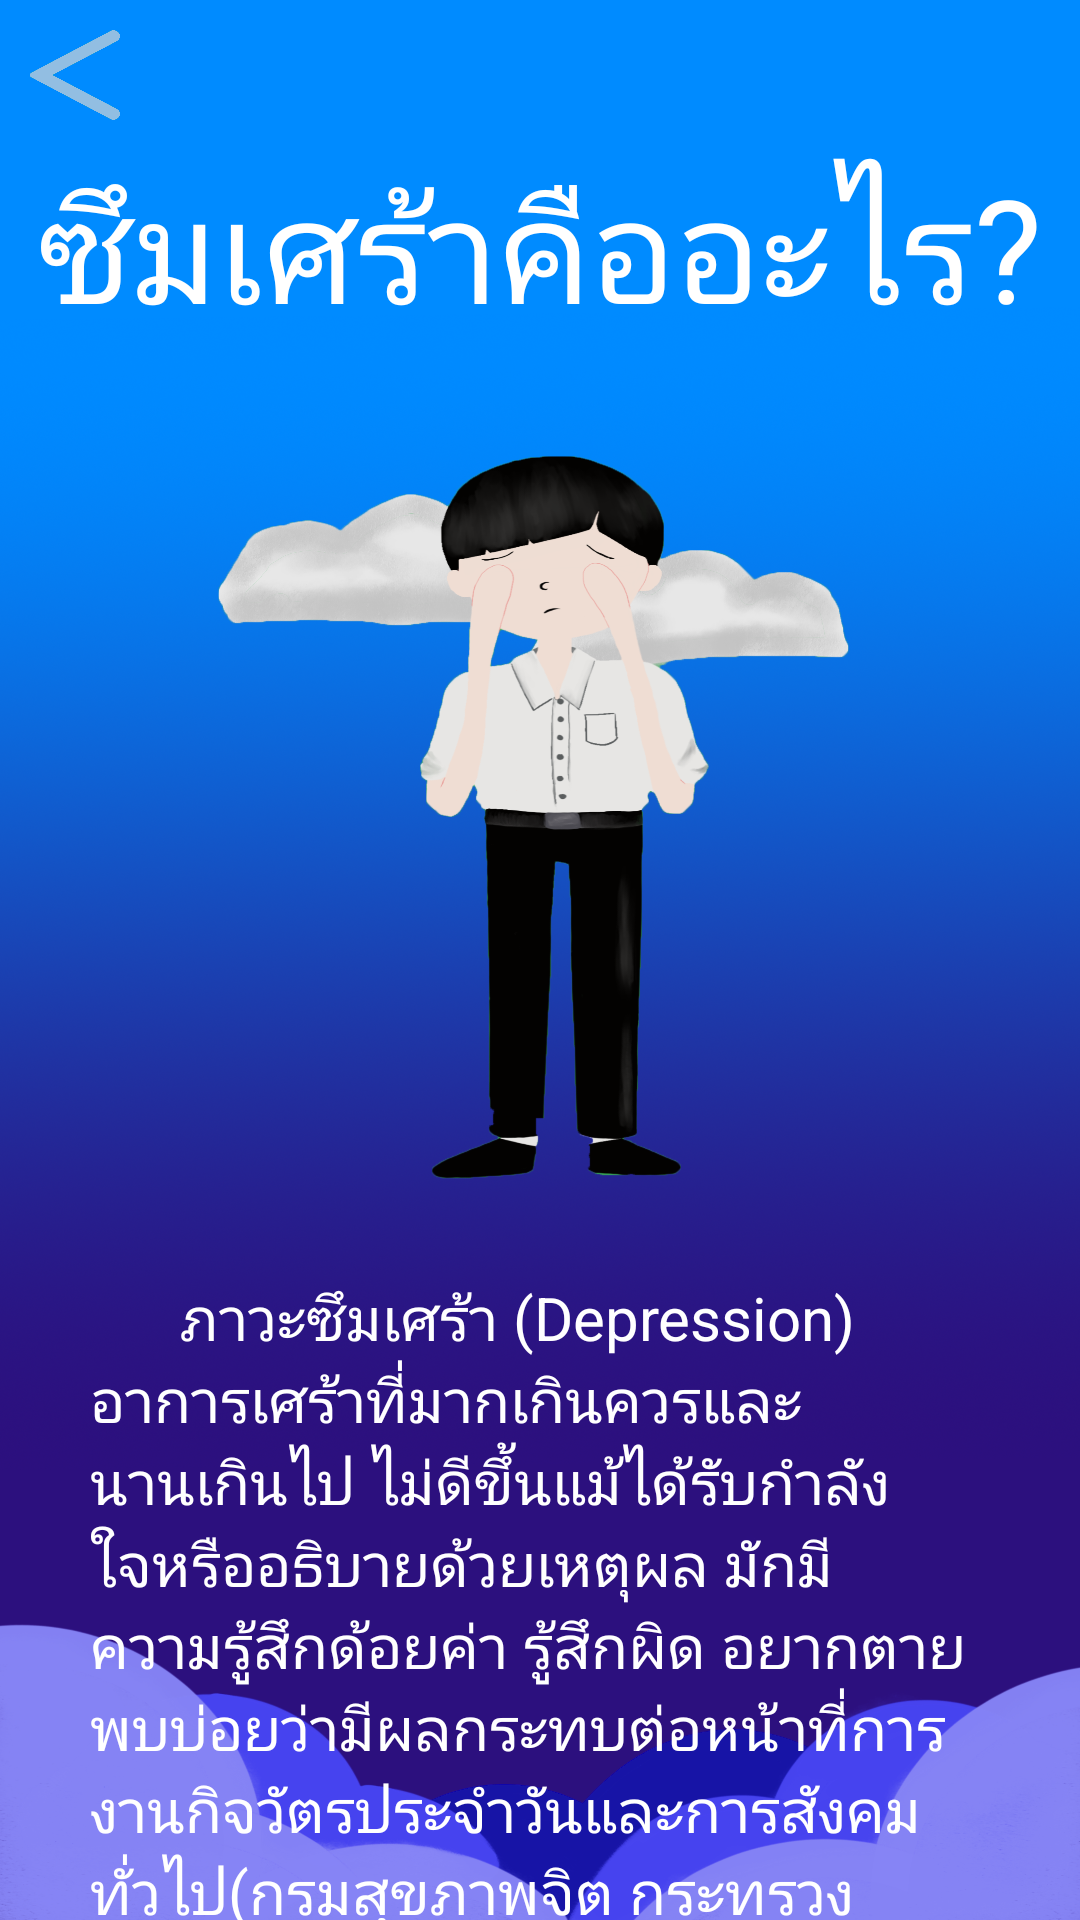

Screen size 1080 x 1920. Icon name, then its box in pixels as Rect(x1, y1, x2, y2):
backbut: Rect(30, 30, 120, 120)
